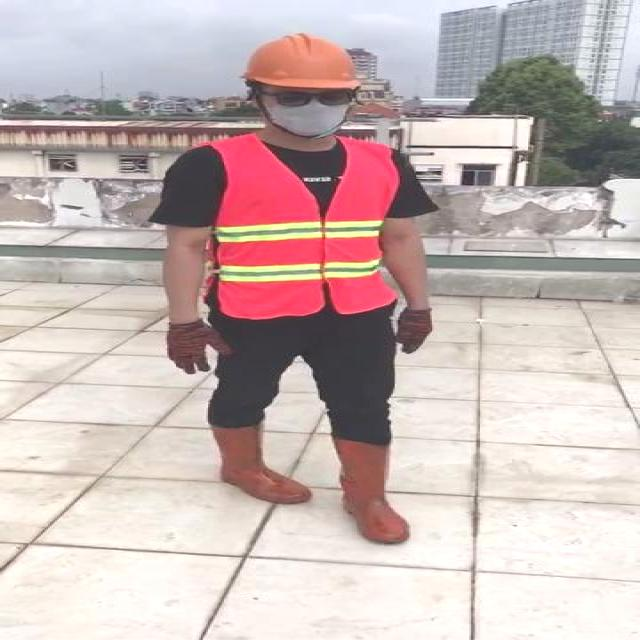boots: (212, 424, 311, 505), (336, 441, 407, 543)
face_mask: (264, 86, 358, 136)
glasses: (268, 82, 362, 110)
hand_glove: (163, 322, 230, 376), (394, 310, 434, 353)
head_helmet: (241, 34, 365, 90)
person: (156, 34, 440, 542)
vest: (215, 136, 398, 318)
